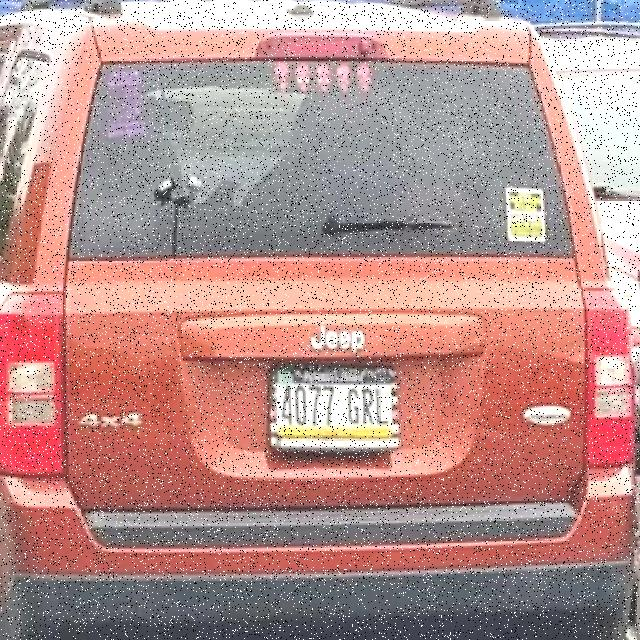licenseplate: (267, 364, 400, 451)
